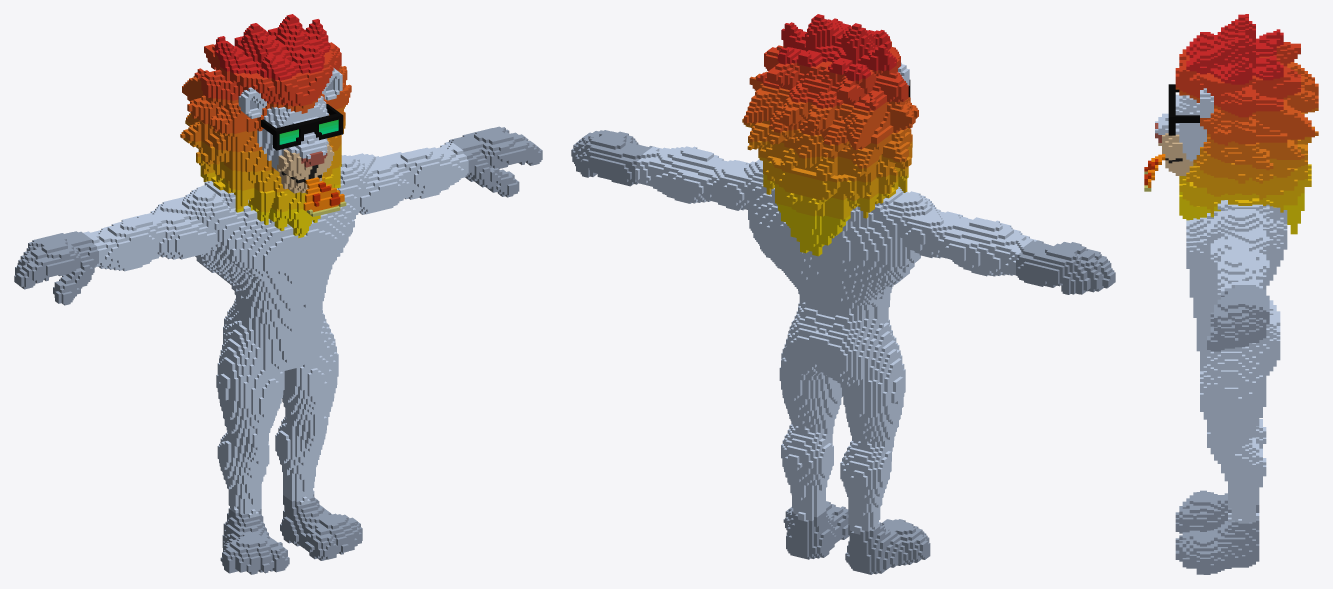
File: 427-0LHJb3H-.glb
3 views of the same model, side by side, from view 1: azimuth 30°, elevation 25°; view 2: azimuth 150°, elevation 25°; view 3: azimuth 270°, elevation 25° (orthographic). The views are drawn at different scales.
Visible parts, largest first — view 1: pizza; view 2: pizza; view 3: pizza.
Boxes of the visible parts, box(x1,y1,x2,y2) form: pizza: box(14, 14, 542, 574); pizza: box(571, 14, 1115, 574); pizza: box(1144, 14, 1318, 574).
Size of the model in its own units: 17.2 by 16.5 by 5.
4 materials, 4 textured.
